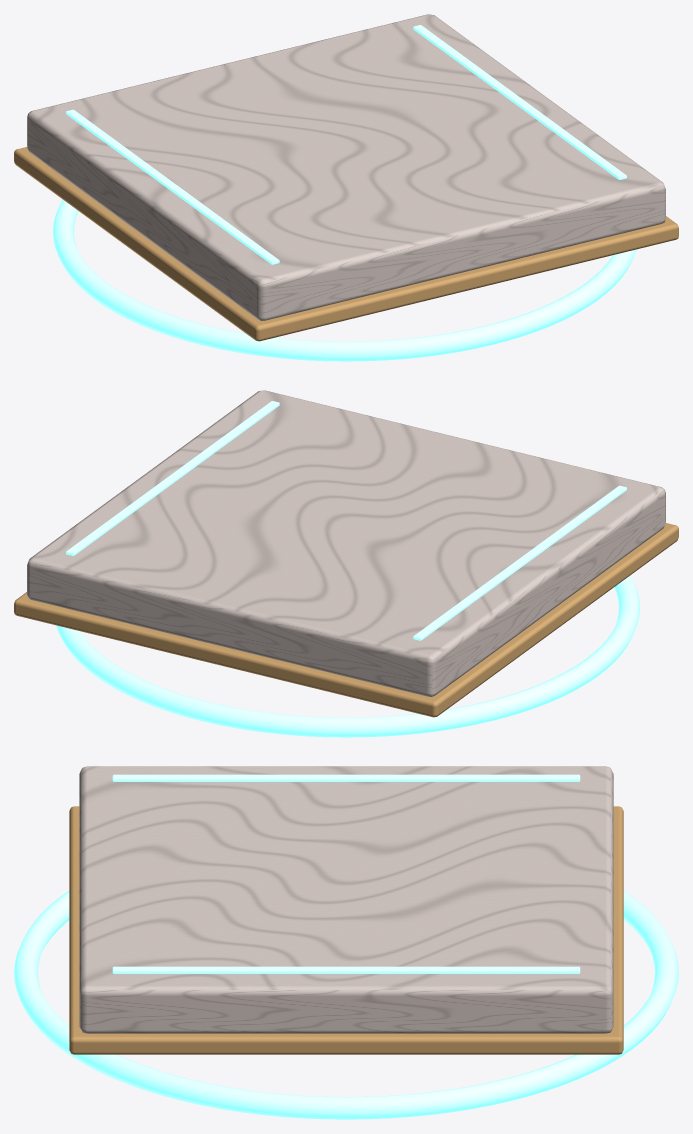
The picture shows the model from 3 angles, top to bottom: view 1: azimuth 30°, elevation 25°; view 2: azimuth 150°, elevation 25°; view 3: azimuth 270°, elevation 25°; orthographic projection. The views are drawn at different scales.
Parts seen in each view (by area): view 1: Ferry deck, Ferry rim, Ferry levitation, Ferry edge (×2); view 2: Ferry deck, Ferry rim, Ferry levitation, Ferry edge (×2); view 3: Ferry deck, Ferry levitation, Ferry rim, Ferry edge (×2).
Boxes of the visible parts, x1,y1,x2,y2 form: Ferry deck: (27,14,665,320); Ferry rim: (14,147,678,341); Ferry levitation: (53,199,636,361); Ferry edge (×2): (66,25,626,264); Ferry deck: (27,390,665,696); Ferry rim: (14,523,678,717); Ferry levitation: (56,575,639,737); Ferry edge (×2): (66,401,626,640); Ferry deck: (79,766,613,1033); Ferry levitation: (14,891,678,1119); Ferry rim: (69,806,623,1054); Ferry edge (×2): (112,774,580,973).
Bounding box in the file's own units: 4.98 × 0.92 × 4.98.
Materials: 3 (1 with a texture image).
